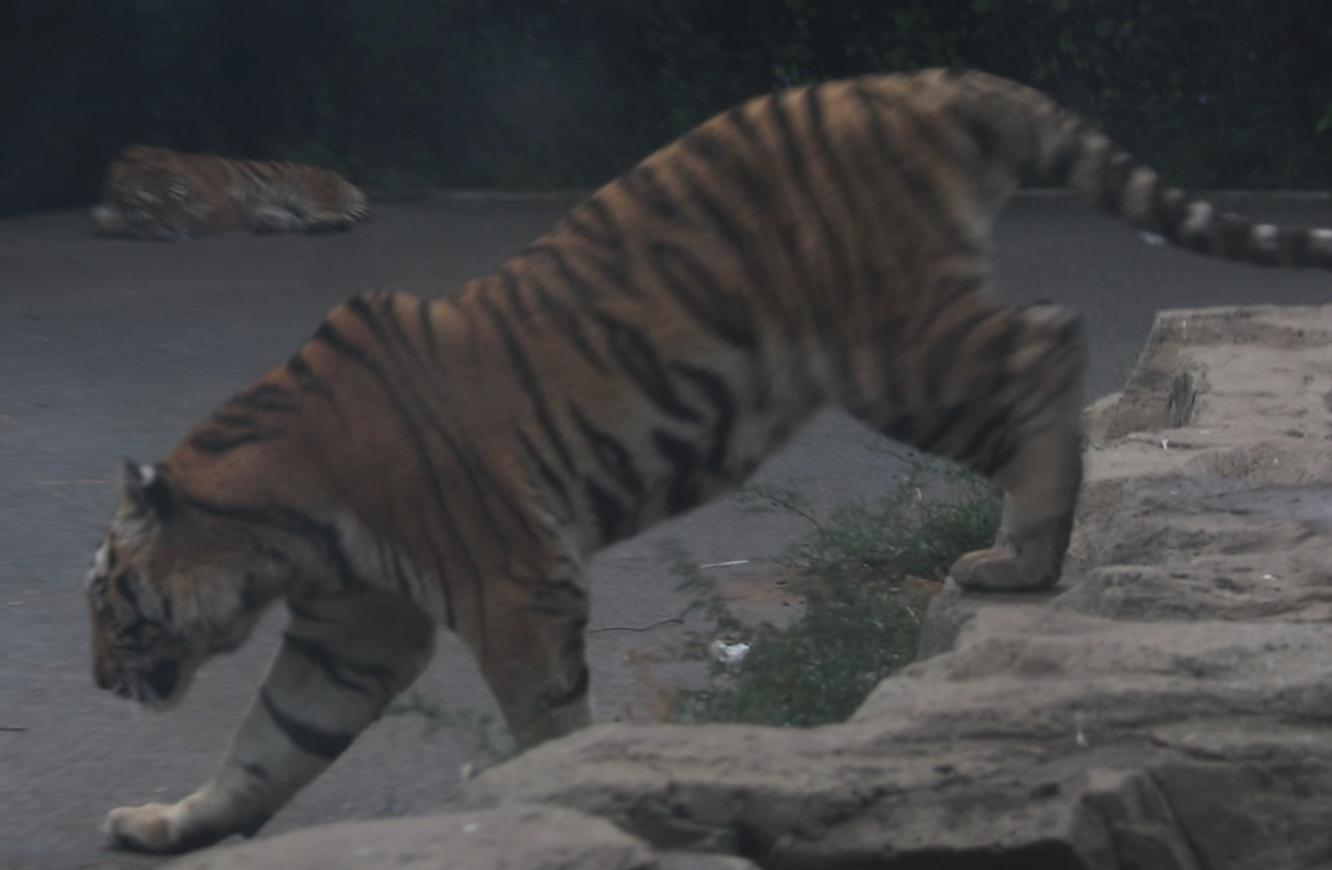tiger: (89, 70, 1153, 853)
